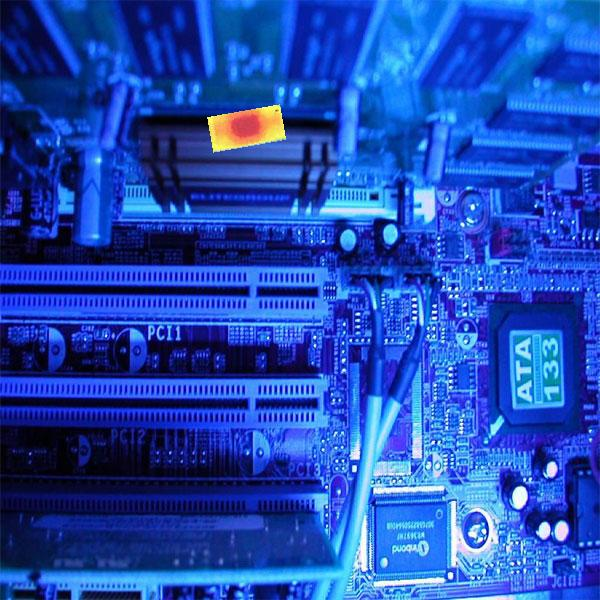componente_T: (203, 102, 290, 155)
